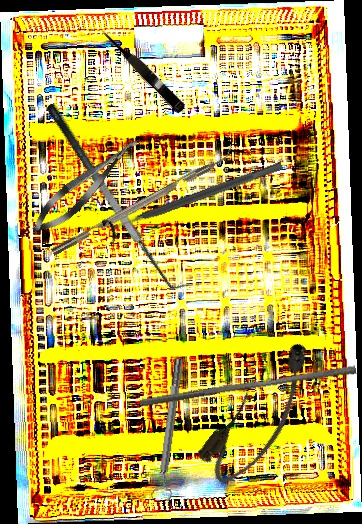Cannula: (192, 335, 332, 493)
Chopper: (45, 142, 239, 256)
Fixation Ring: (100, 151, 288, 247), (148, 357, 192, 502)
Micro Scissor: (24, 128, 150, 242), (96, 22, 189, 116)
Pusher: (139, 357, 357, 416)
Spatula Surgical: (43, 92, 191, 301)
